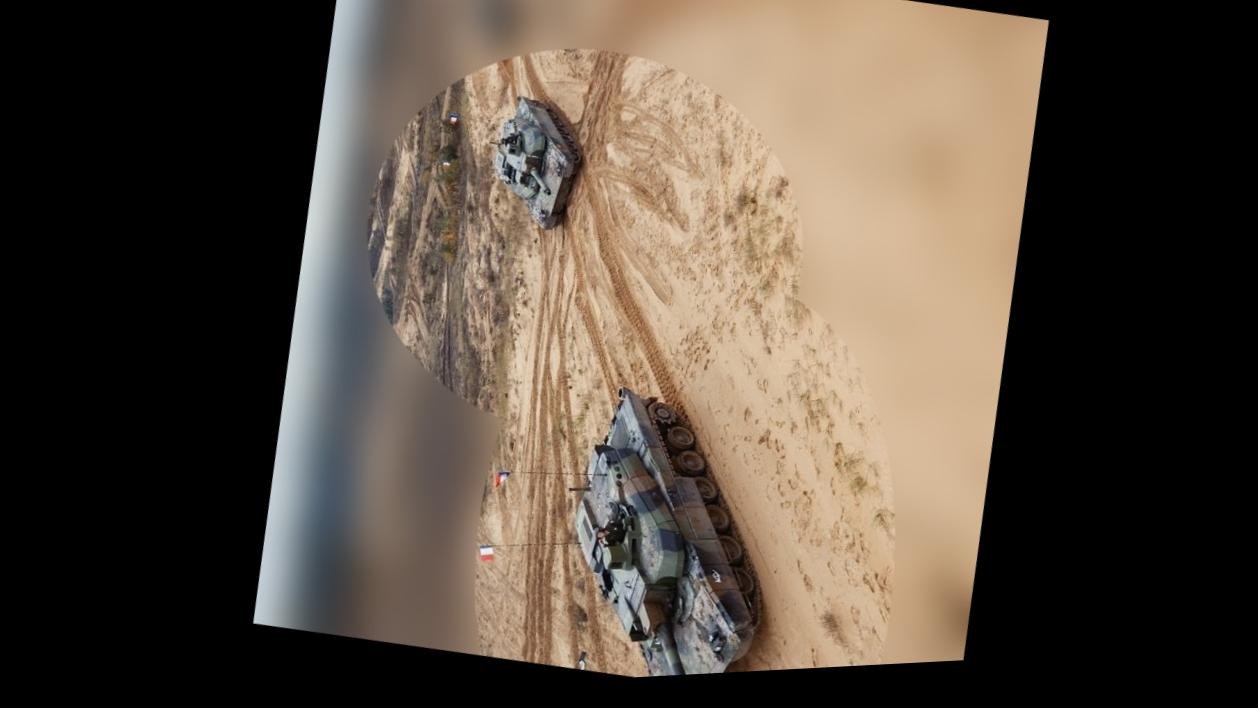tank: (536, 371, 802, 681), (477, 88, 594, 237)
